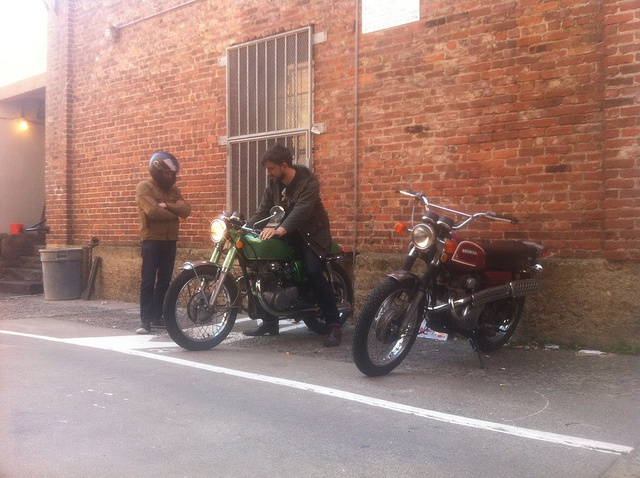non-vehicle: (345, 180, 546, 378), (168, 213, 349, 352)
